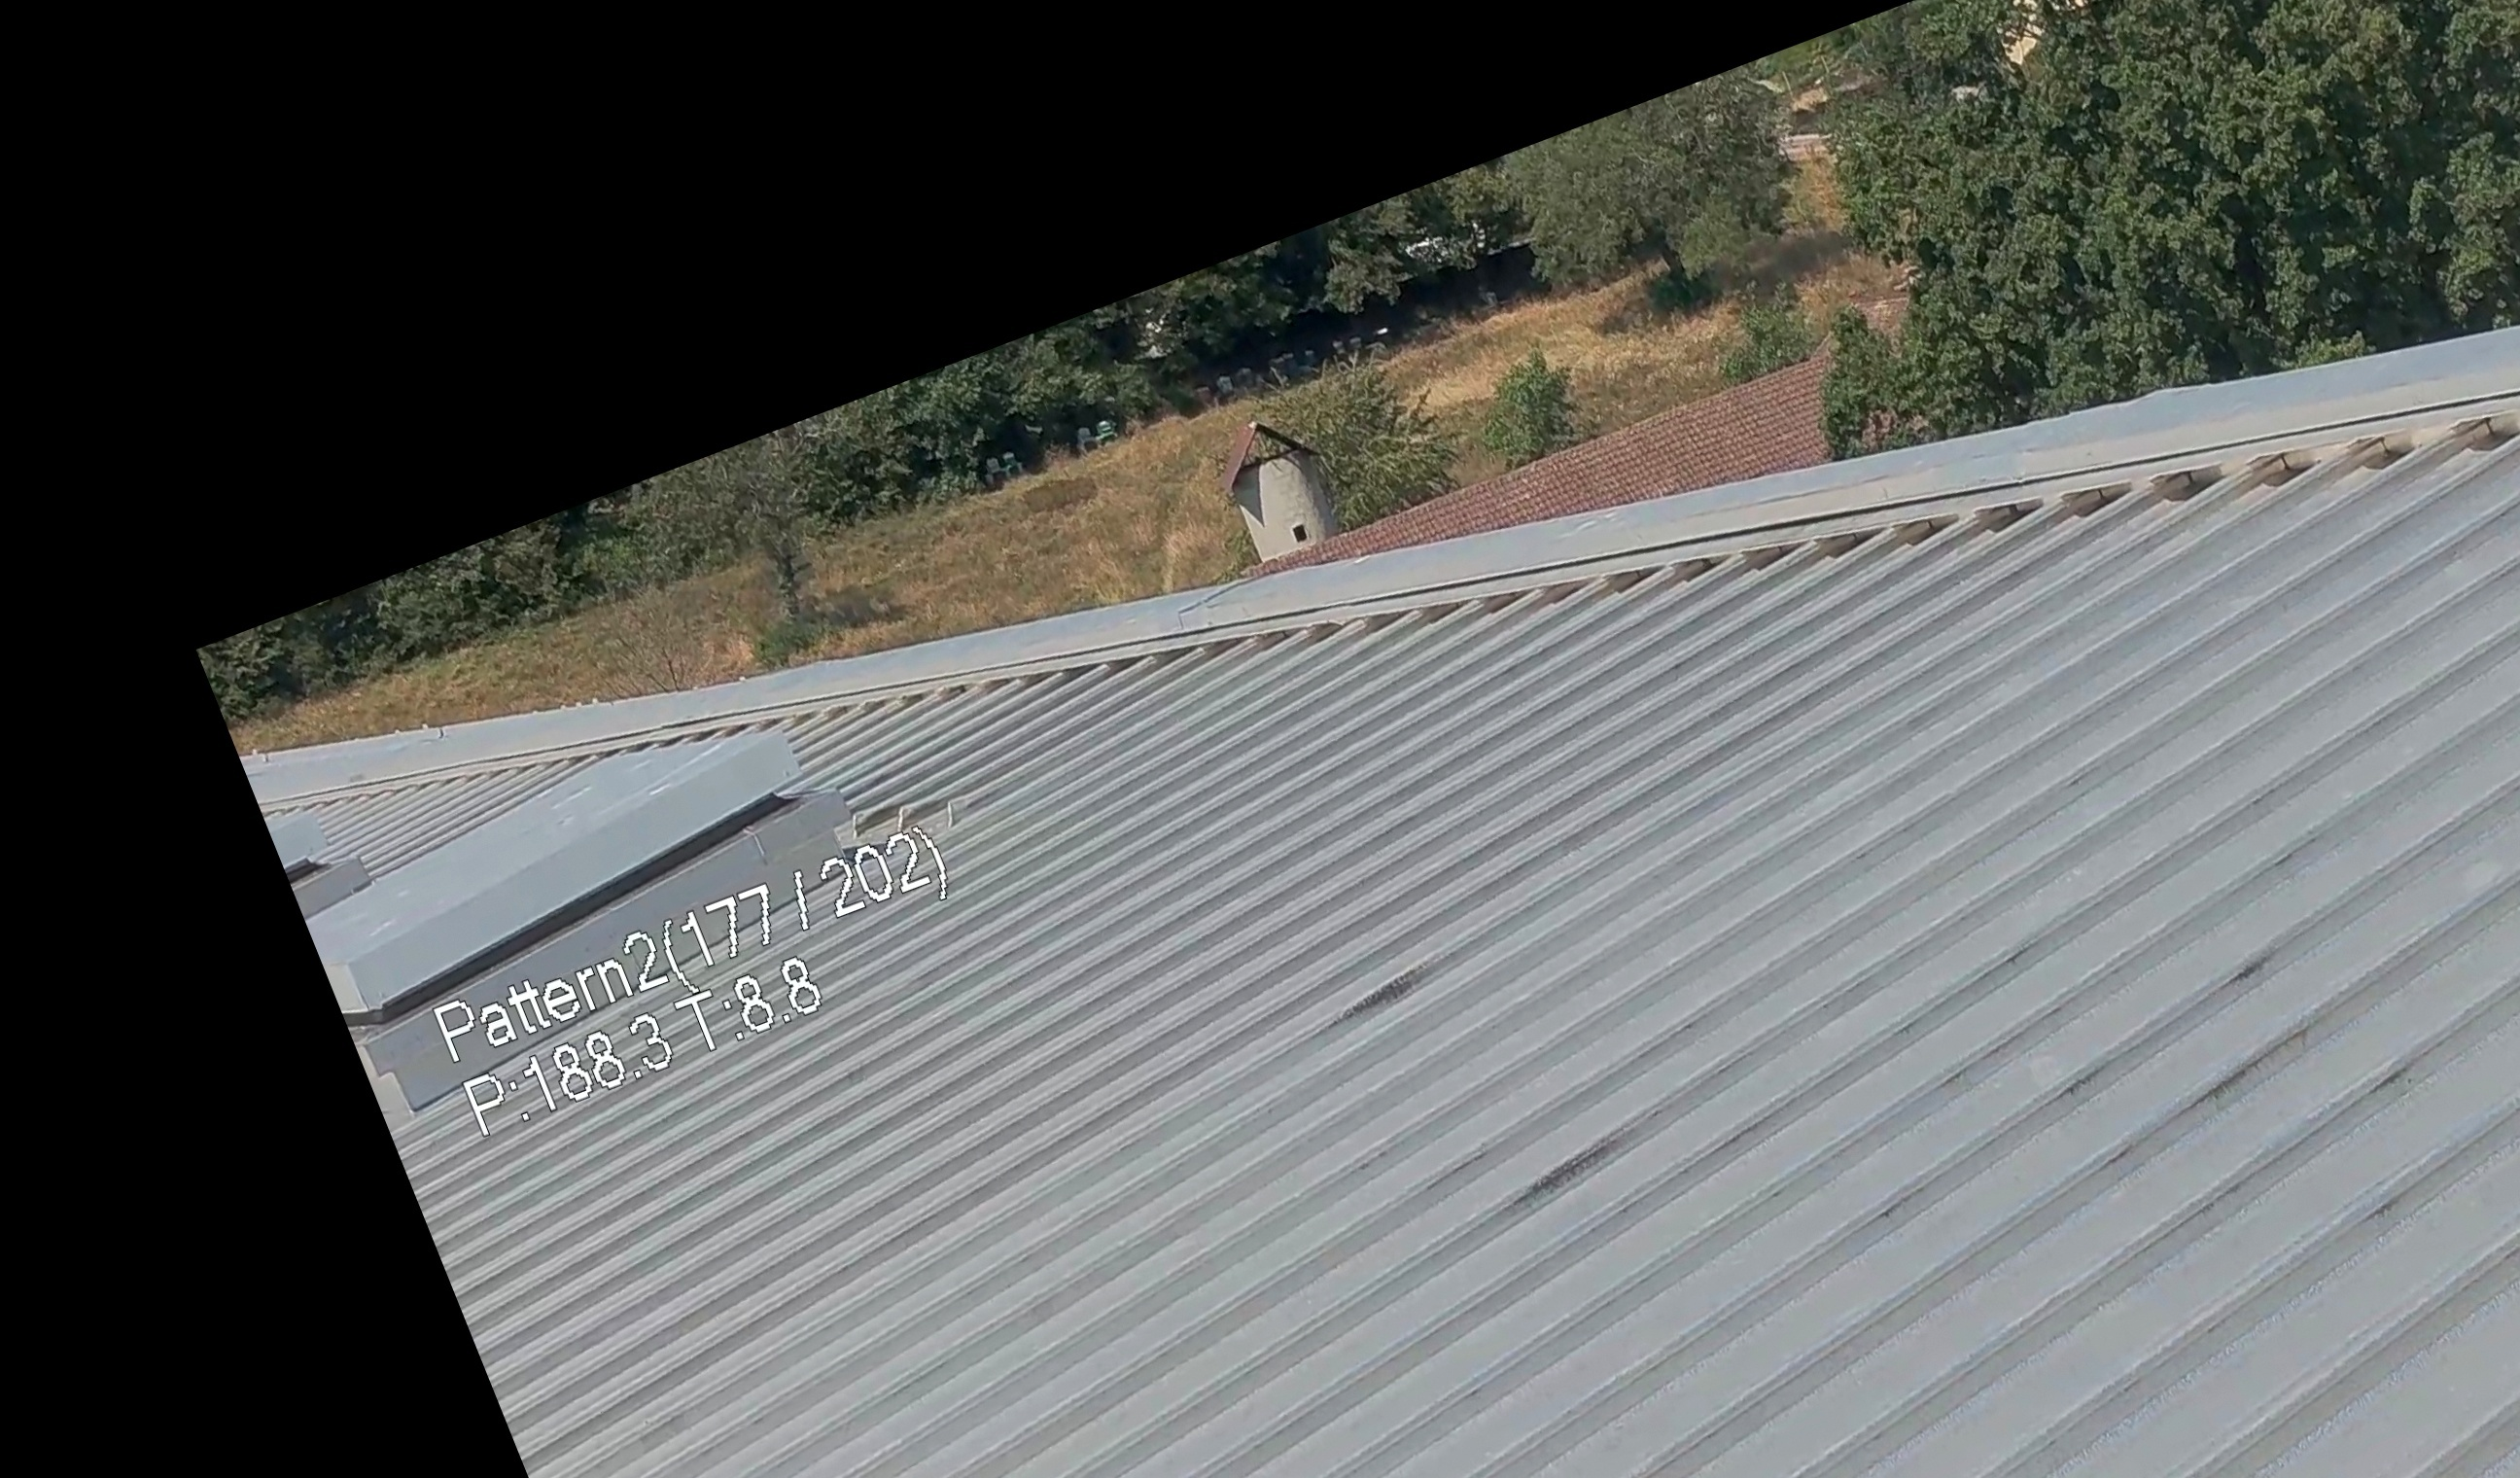Other: (1187, 375, 1359, 584)
